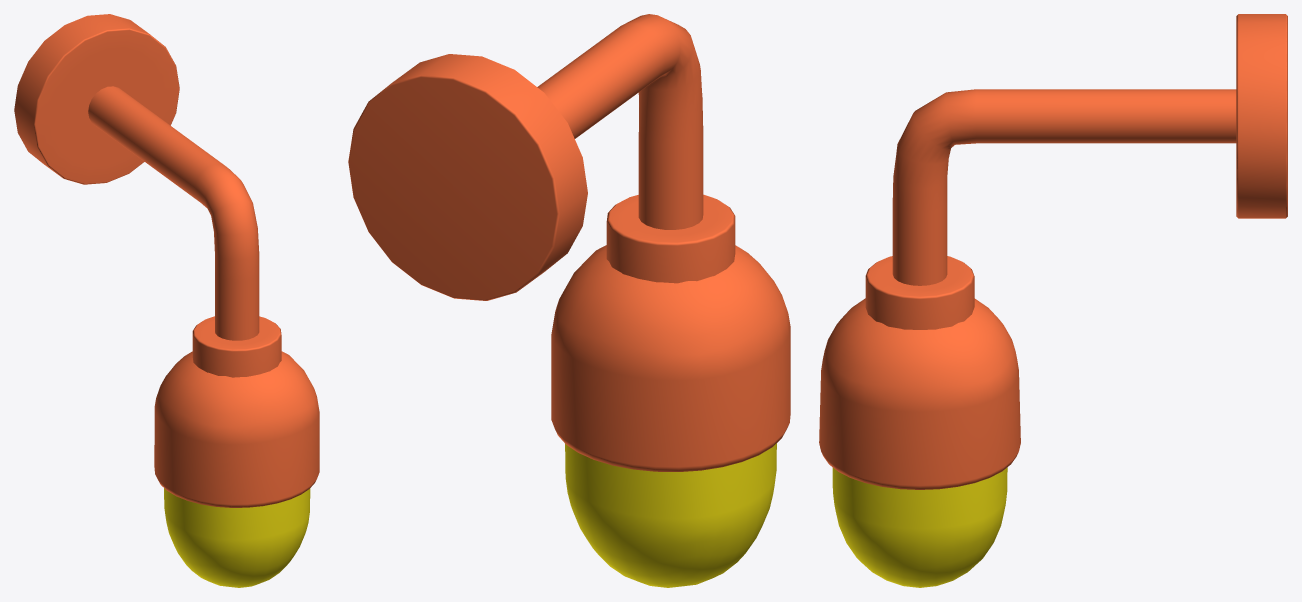
Rendered from City_4_Wall_Lamp_2.glb.
3 views of the same model, side by side, from view 1: azimuth 30°, elevation 25°; view 2: azimuth 150°, elevation 25°; view 3: azimuth 270°, elevation 25° (orthographic). The views are drawn at different scales.
Visible parts, largest first — view 1: City_4_Wall_Lamp_2; view 2: City_4_Wall_Lamp_2; view 3: City_4_Wall_Lamp_2.
Boxes of the visible parts, bbox=[...] form: City_4_Wall_Lamp_2: bbox=[14, 14, 319, 587]; City_4_Wall_Lamp_2: bbox=[348, 14, 790, 587]; City_4_Wall_Lamp_2: bbox=[819, 14, 1287, 587].
Bounding box in the file's own units: 0.2756 × 0.8214 × 0.6264.
1 material, 1 textured.
